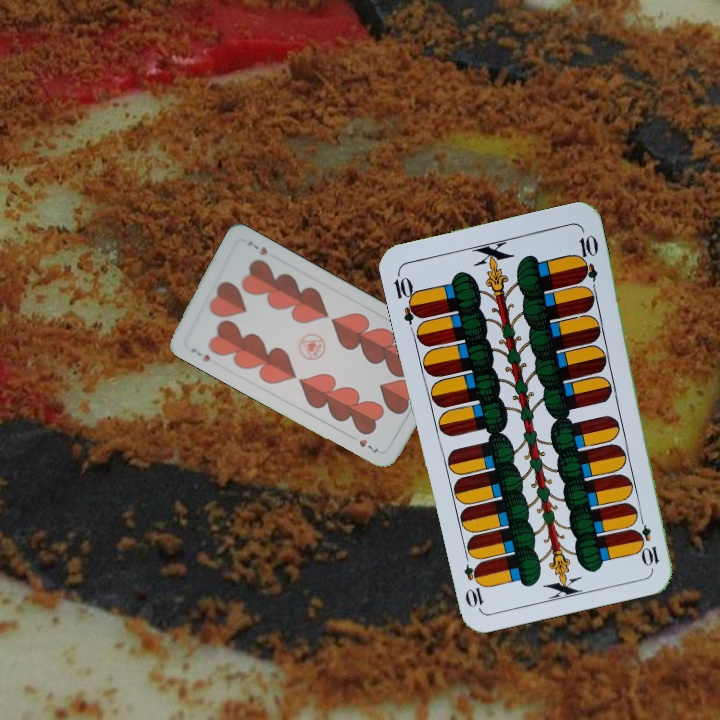E10: (390, 268, 425, 326), (633, 510, 662, 569)
H7: (187, 344, 213, 364)
